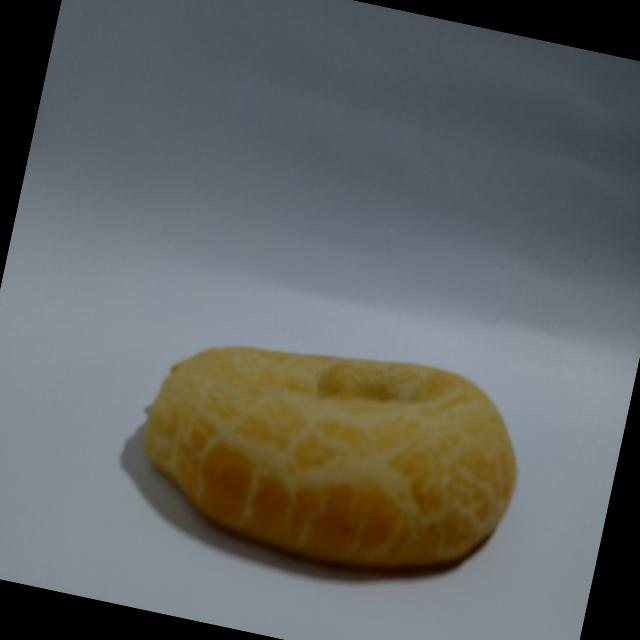Chipa: (115, 294, 540, 614)
